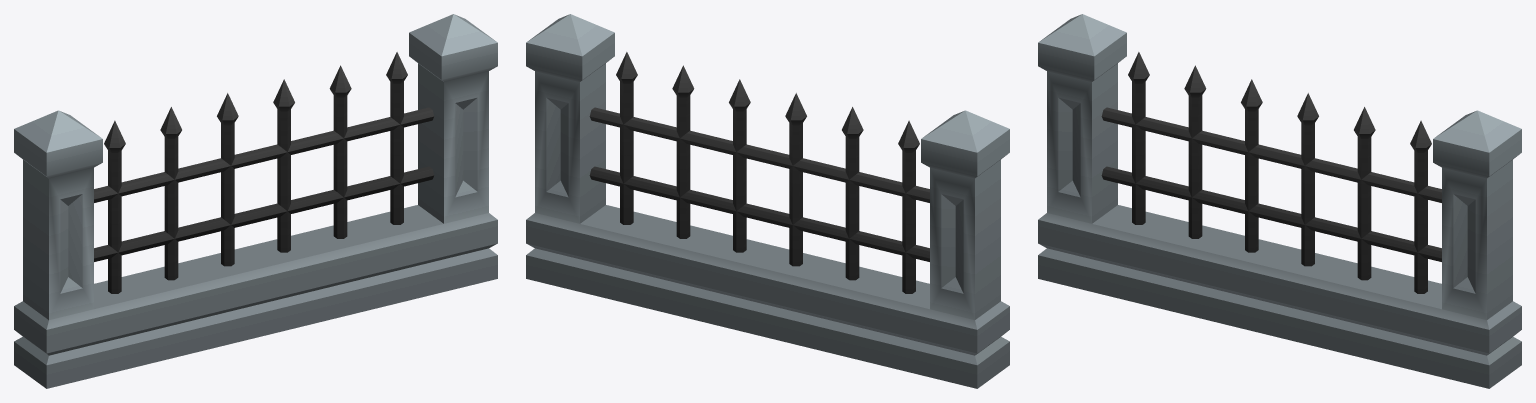
Rendered from hb_fence.glb.
The picture shows the model from 3 angles, left to right: view 1: azimuth 30°, elevation 25°; view 2: azimuth 150°, elevation 25°; view 3: azimuth 330°, elevation 25°; orthographic projection.
Parts seen in each view (by area): view 1: fence; view 2: fence; view 3: fence.
Boxes of the visible parts, x1,y1,x2,y2 form: fence: (14, 14, 497, 388); fence: (526, 14, 1009, 388); fence: (1038, 14, 1521, 388).
Bounding box in the file's own units: 2 × 1.1 × 0.25.
Materials: 1 (1 with a texture image).
